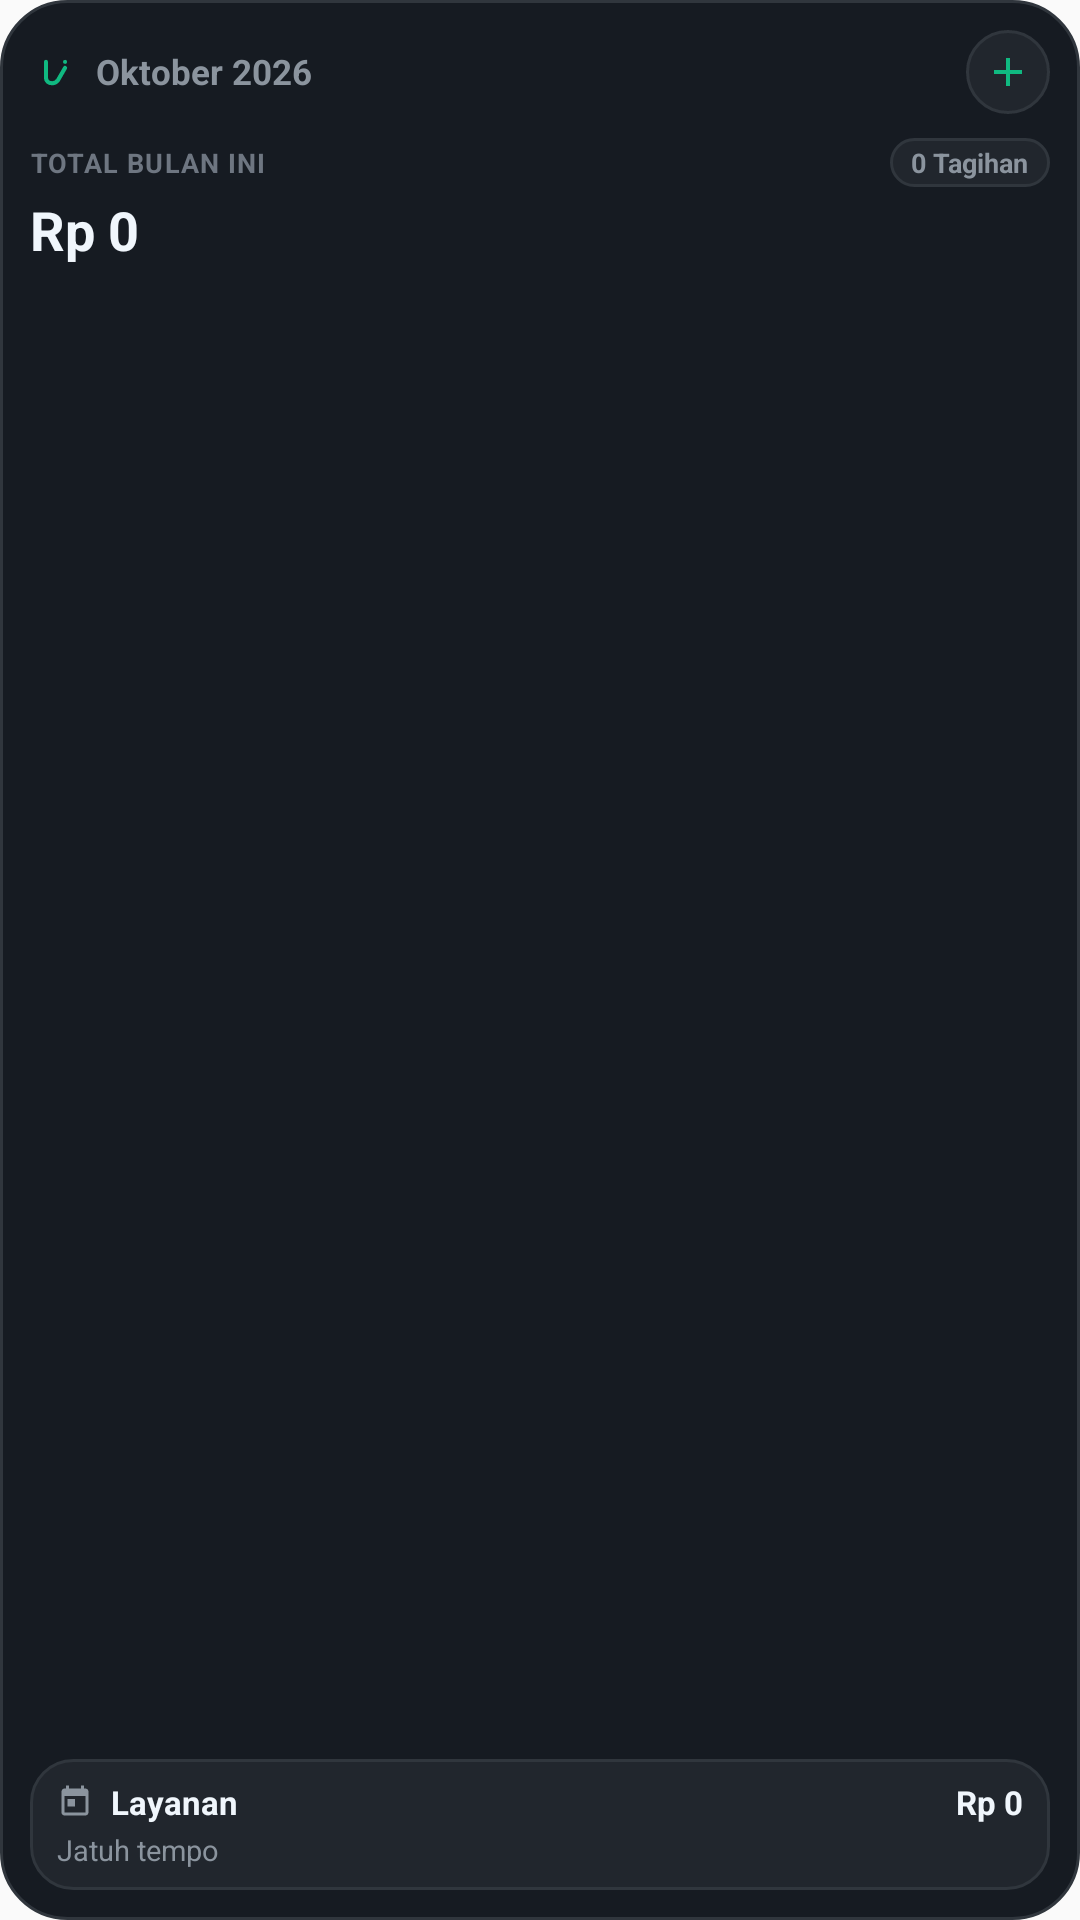

Screen size 1080w x 1920h. Icon name, then its box in pixels as detection(x1, y1, x2, y2):
Tambah Tagihan Baru: detection(966, 30, 1050, 114)
